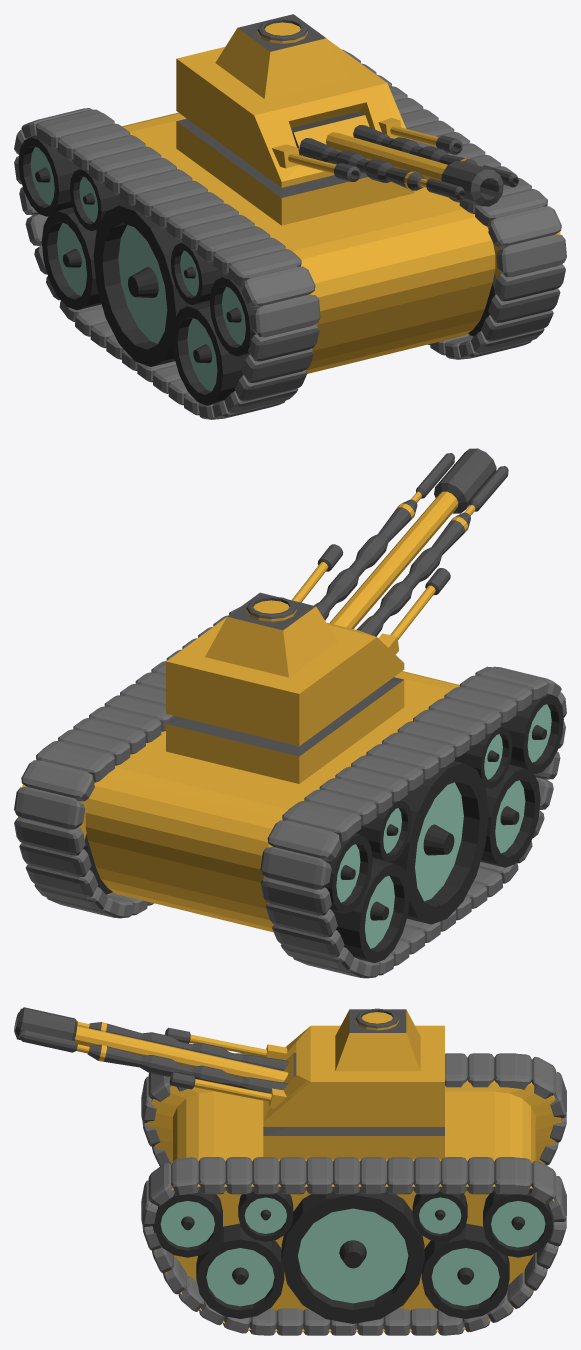
Rendered from tank_fractured.fbx.
3 renders of one model, top to bottom at view 1: azimuth 30°, elevation 25°; view 2: azimuth 150°, elevation 25°; view 3: azimuth 270°, elevation 25°, orthographic. The views are drawn at different scales.
Parts seen in each view (by area): view 1: Cube, Weaop_Body, Cylinder, Cylinder.011, Cylinder.008, Weaop_Body_shard.002, Turret, Weaop_Body_shard.001, Cylinder.010, Cylinder.006, Cylinder.002, gun (+37 smaller); view 2: Cube, Weaop_Body, Cylinder, Turret, Cylinder.008, Cylinder.011, Weaop_Body_shard.007, Weaop_Body_shard.008, Cylinder.006, Cylinder.007, Cylinder.002, Weaop_Body_shard.001 (+41 smaller); view 3: Cube, Cylinder.013, Weaop_Body, Cylinder.014, Cylinder.003, Turret, Weaop_Body_shard.006, Cylinder.001, Cylinder.015, Weaop_Body_shard.004, Cylinder.007, Weaop_Body_shard.003 (+44 smaller).
Boxes of the visible parts, x1,y1,x2,y2 form: Cube: (122, 112, 562, 373); Weaop_Body: (176, 17, 391, 187); Cylinder: (93, 203, 191, 366); Cylinder.011: (172, 301, 249, 405); Cylinder.008: (41, 207, 101, 310); Weaop_Body_shard.002: (248, 36, 381, 136); Turret: (326, 132, 503, 206); Weaop_Body_shard.001: (195, 85, 278, 185); Cylinder.010: (18, 136, 80, 216); Cylinder.006: (299, 138, 465, 200); Cylinder.002: (209, 275, 257, 356); gun: (272, 118, 462, 181); Cube: (18, 671, 459, 932); Weaop_Body: (166, 592, 404, 746); Cylinder: (390, 761, 488, 924); Turret: (329, 448, 496, 628); Cylinder.008: (333, 858, 410, 962); Cylinder.011: (480, 764, 540, 867); Weaop_Body_shard.007: (171, 610, 262, 715); Weaop_Body_shard.008: (242, 649, 320, 745); Cylinder.006: (356, 466, 508, 636); Cylinder.007: (314, 453, 454, 620); Cylinder.002: (500, 693, 563, 773); Weaop_Body_shard.001: (319, 643, 401, 723); Cube: (147, 1080, 561, 1331); Cylinder.013: (281, 1190, 424, 1323); Weaop_Body: (263, 1009, 444, 1126); Cylinder.014: (196, 1223, 284, 1318); Cylinder.003: (421, 1223, 509, 1318); Turret: (14, 1007, 288, 1082); Weaop_Body_shard.006: (318, 1080, 444, 1126); Cylinder.001: (483, 1190, 553, 1257); Cylinder.015: (152, 1190, 222, 1257); Weaop_Body_shard.004: (288, 1038, 429, 1096); Cylinder.007: (19, 1030, 287, 1093); Weaop_Body_shard.003: (263, 1093, 386, 1126).
Bounding box in the file's own units: 626 × 577 × 1092.
